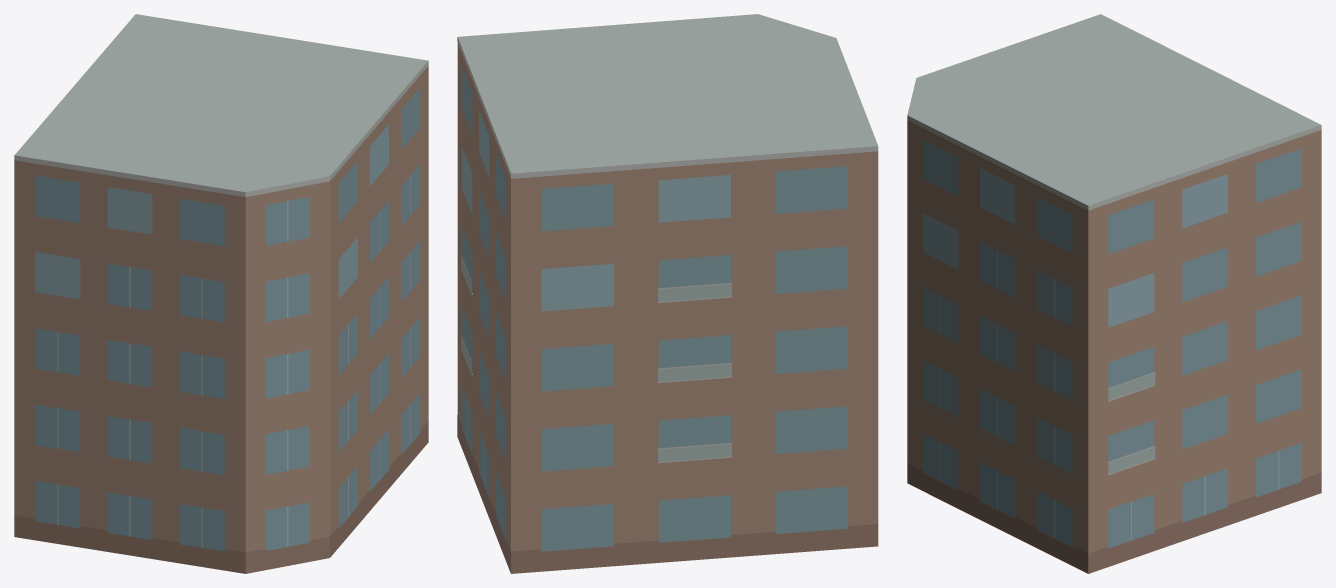
The model's file is survey-upis-32982208.glb.
3 renders of one model, left to right at view 1: azimuth 30°, elevation 25°; view 2: azimuth 150°, elevation 25°; view 3: azimuth 270°, elevation 25°, orthographic. The views are drawn at different scales.
Visible parts, largest first — view 1: survey-upis-32982208.tmp; view 2: survey-upis-32982208.tmp; view 3: survey-upis-32982208.tmp.
Boxes of the visible parts, left/top/right/bottom form: survey-upis-32982208.tmp: left=14, top=14, right=428, bottom=573; survey-upis-32982208.tmp: left=457, top=14, right=878, bottom=573; survey-upis-32982208.tmp: left=907, top=14, right=1321, bottom=573.
Bounding box in the file's own units: 20.98 × 18.76 × 19.15.
